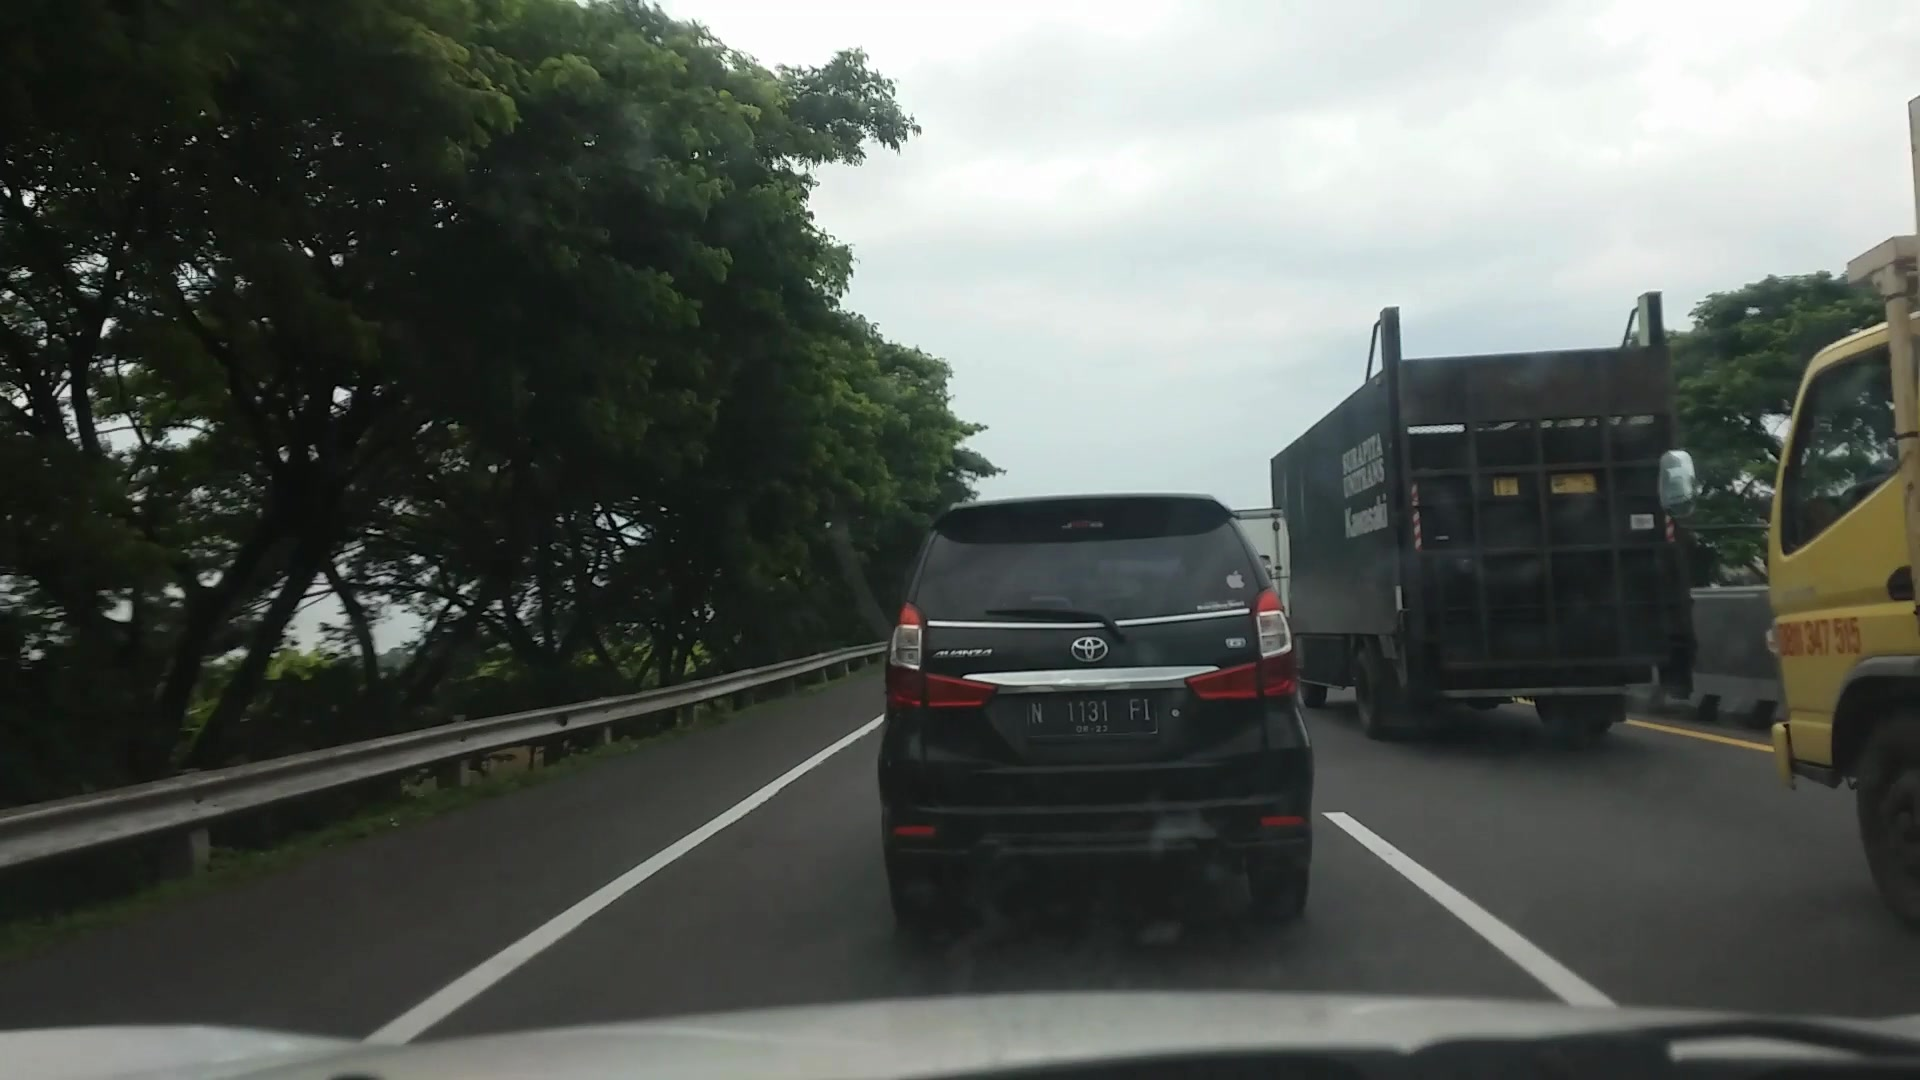plate_positive: (1026, 694, 1156, 736)
